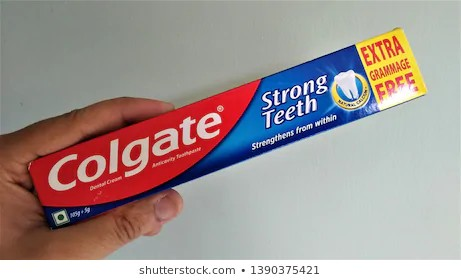colgate-small: (26, 30, 427, 234)
